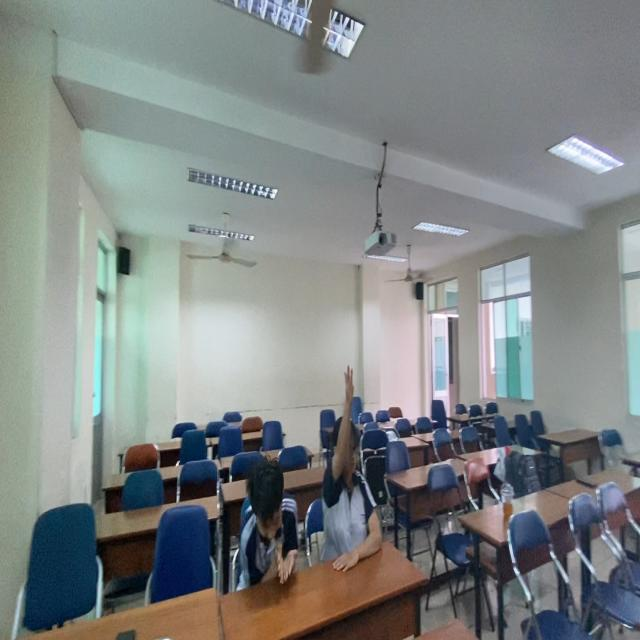raise_hand: (313, 374, 393, 580)
